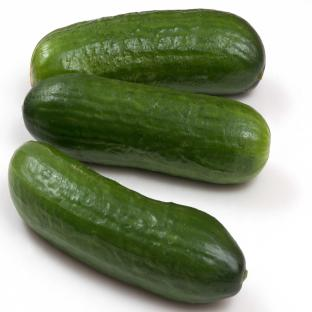Cucumber: (9, 142, 246, 302), (23, 74, 270, 183), (31, 10, 265, 94)
